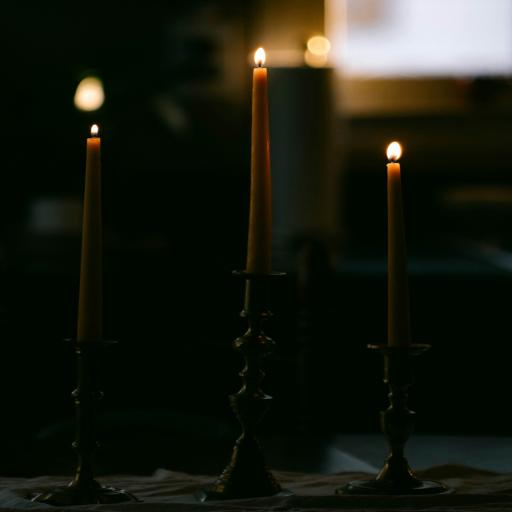candlelight: (368, 125, 437, 353), (236, 45, 290, 274), (67, 112, 116, 360)
